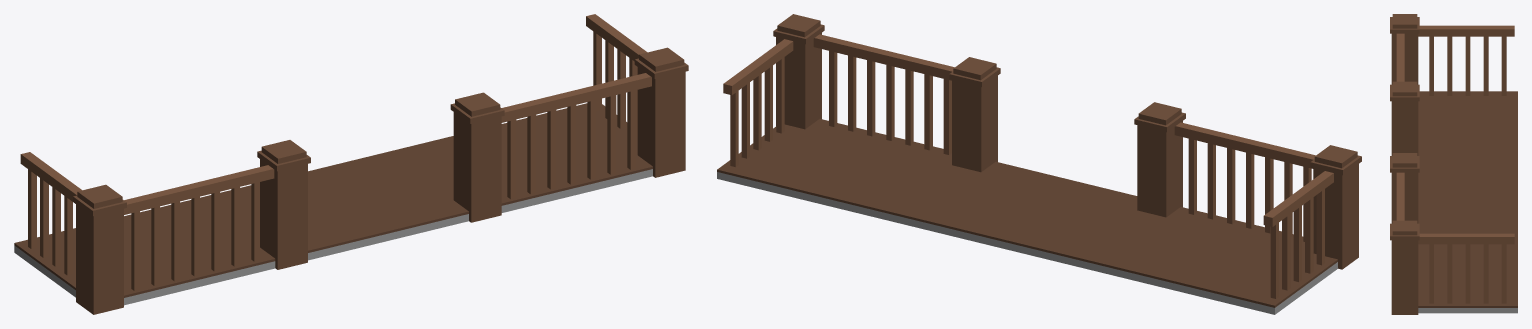
The model's file is Terrace3_C3.fbx.
3 renders of one model, left to right at view 1: azimuth 30°, elevation 25°; view 2: azimuth 150°, elevation 25°; view 3: azimuth 270°, elevation 25°, orthographic. The views are drawn at different scales.
Visible parts, largest first — view 1: Terrace3_C3; view 2: Terrace3_C3; view 3: Terrace3_C3.
Part boxes in pixels (<box>): Terrace3_C3: <box>14,14,688,314</box>; Terrace3_C3: <box>717,14,1361,314</box>; Terrace3_C3: <box>1390,14,1517,314</box>.
Bounding box in the file's own units: 6.44 × 1.14 × 1.59.
